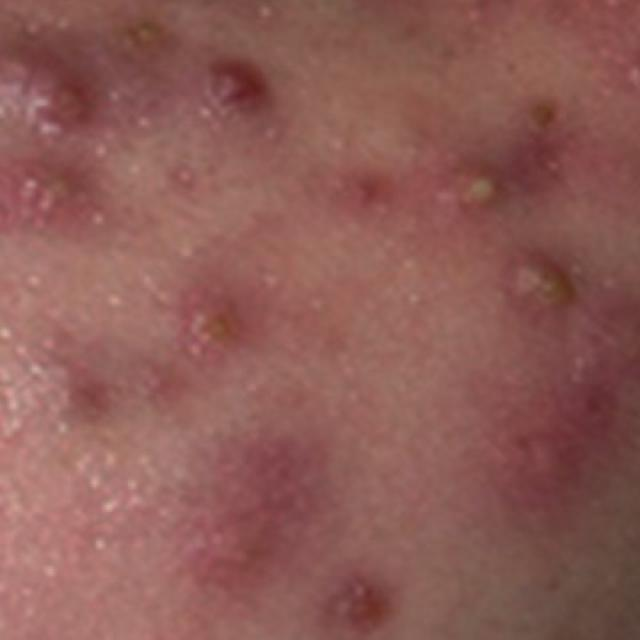acne: (332, 80, 586, 220), (474, 354, 638, 511), (0, 28, 121, 240), (471, 236, 606, 336), (167, 270, 279, 382), (23, 338, 126, 448), (196, 37, 296, 139), (286, 560, 409, 638)
